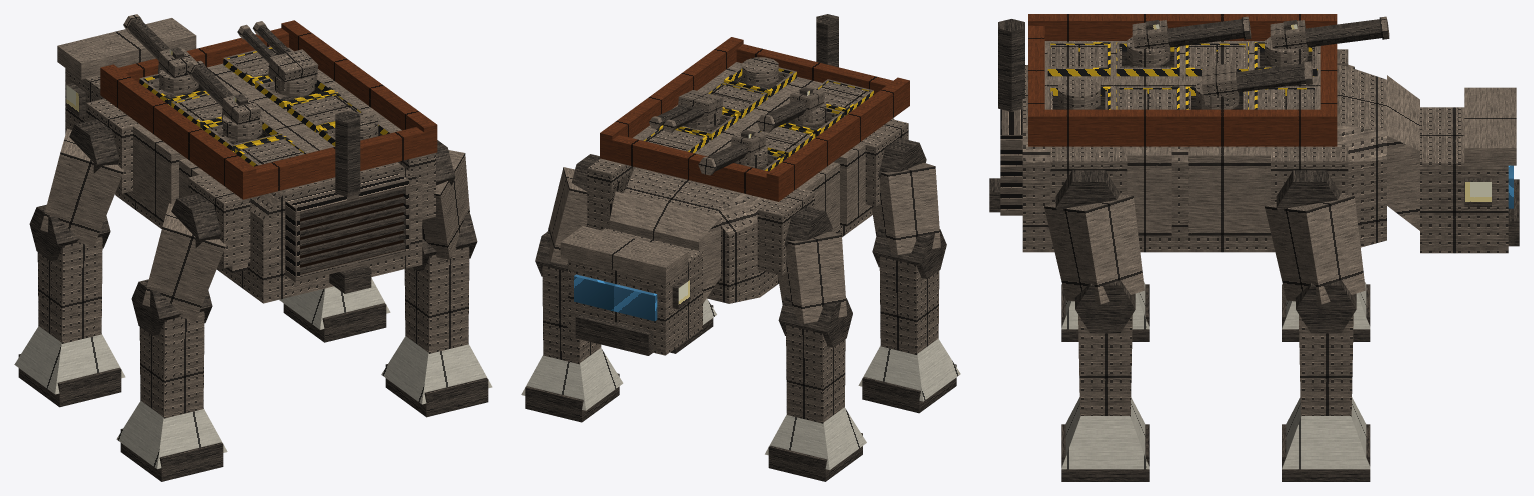
The model's file is clydesdale.glb.
The picture shows the model from 3 angles, left to right: view 1: azimuth 30°, elevation 25°; view 2: azimuth 150°, elevation 25°; view 3: azimuth 270°, elevation 25°; orthographic projection. The views are drawn at different scales.
Visible parts, largest first — view 1: hull, bed_side, shin, shin.002, shin.003, thigh, thigh.002, bed_tail, bed_side.001, brow, feather, feather.002 (+45 smaller); view 2: hull, head, bed_side, neck, shin, shin.002, thigh, thigh.002, bed_front, brow, bed_side.001, feather.001 (+33 smaller); view 3: hull, bed_side.001, head, thigh.003, thigh.001, ablative.003, bed_side, shin.003, shin.001, feather.001, feather.003, neck (+41 smaller).
Part boxes in pixels (box(x1,y1,x2,y2)): hull: box(115, 162, 422, 303); bed_side: box(100, 64, 256, 199); shin: box(37, 236, 102, 343); shin.002: box(139, 311, 204, 418); shin.003: box(404, 246, 469, 353); thigh: box(40, 128, 124, 246); thigh.002: box(142, 203, 226, 321); bed_tail: box(235, 127, 437, 199); bed_side.001: box(281, 20, 437, 154); brow: box(57, 18, 196, 79); feather: box(14, 326, 125, 394); feather.002: box(116, 401, 227, 468); hull: box(607, 118, 894, 303); head: box(568, 228, 702, 355); bed_side: box(766, 77, 909, 201); neck: box(609, 191, 720, 303); shin: box(786, 325, 845, 423); shin.002: box(879, 256, 939, 354); thigh: box(777, 231, 846, 323); thigh.002: box(872, 162, 940, 254); bed_front: box(600, 135, 779, 201); brow: box(560, 226, 688, 282); bed_side.001: box(600, 37, 743, 161); feather.001: box(521, 348, 623, 410); hull: box(1022, 65, 1386, 252); bed_side.001: box(1028, 109, 1337, 146); head: box(1420, 107, 1508, 253); thigh.003: box(1044, 194, 1144, 304); thigh.001: box(1265, 194, 1365, 304); ablative.003: box(1188, 147, 1303, 235); bed_side: box(1028, 14, 1337, 40); shin.003: box(1078, 314, 1132, 416); shin.001: box(1299, 314, 1353, 416); feather.001: box(1282, 397, 1370, 469); feather.003: box(1061, 397, 1149, 469); neck: box(1387, 75, 1419, 230).
Bounding box in the file's own units: 76 × 74 × 96.
Materials: 12 (12 with a texture image).
